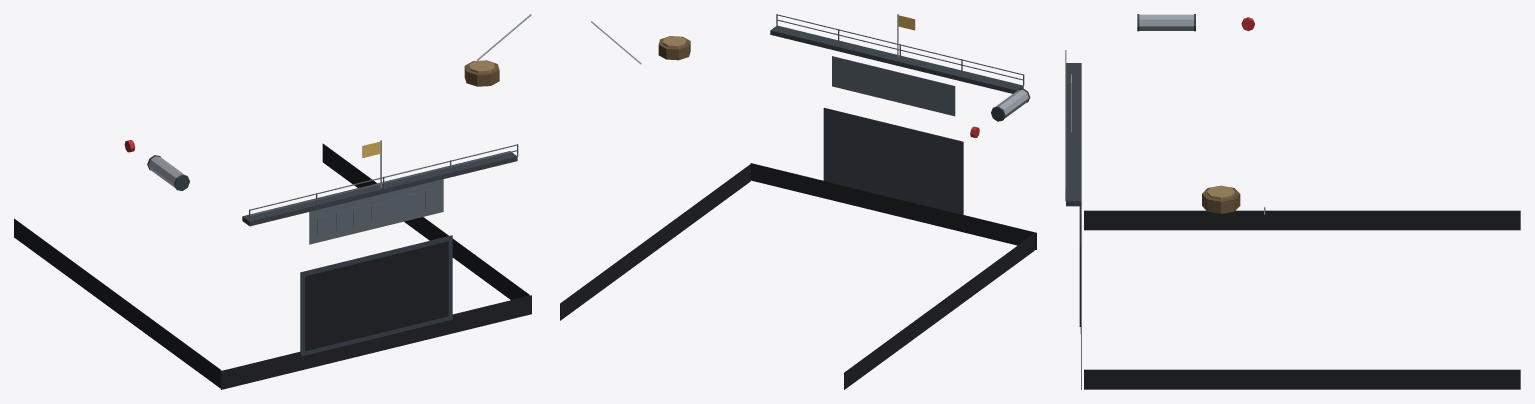
File: env_fallow_stern_trim.fbx
The picture shows the model from 3 angles, left to right: view 1: azimuth 30°, elevation 25°; view 2: azimuth 150°, elevation 25°; view 3: azimuth 270°, elevation 25°; orthographic projection. The views are drawn at different scales.
Parts seen in each view (by area): view 1: env_fallow_stern_trim; view 2: env_fallow_stern_trim; view 3: env_fallow_stern_trim.
Part boxes in pixels (x1,y1,x2,y2): env_fallow_stern_trim: [14, 14, 531, 389]; env_fallow_stern_trim: [560, 14, 1036, 389]; env_fallow_stern_trim: [1065, 14, 1520, 389].
Bounding box in the file's own units: 9339 × 4611 × 8360.
